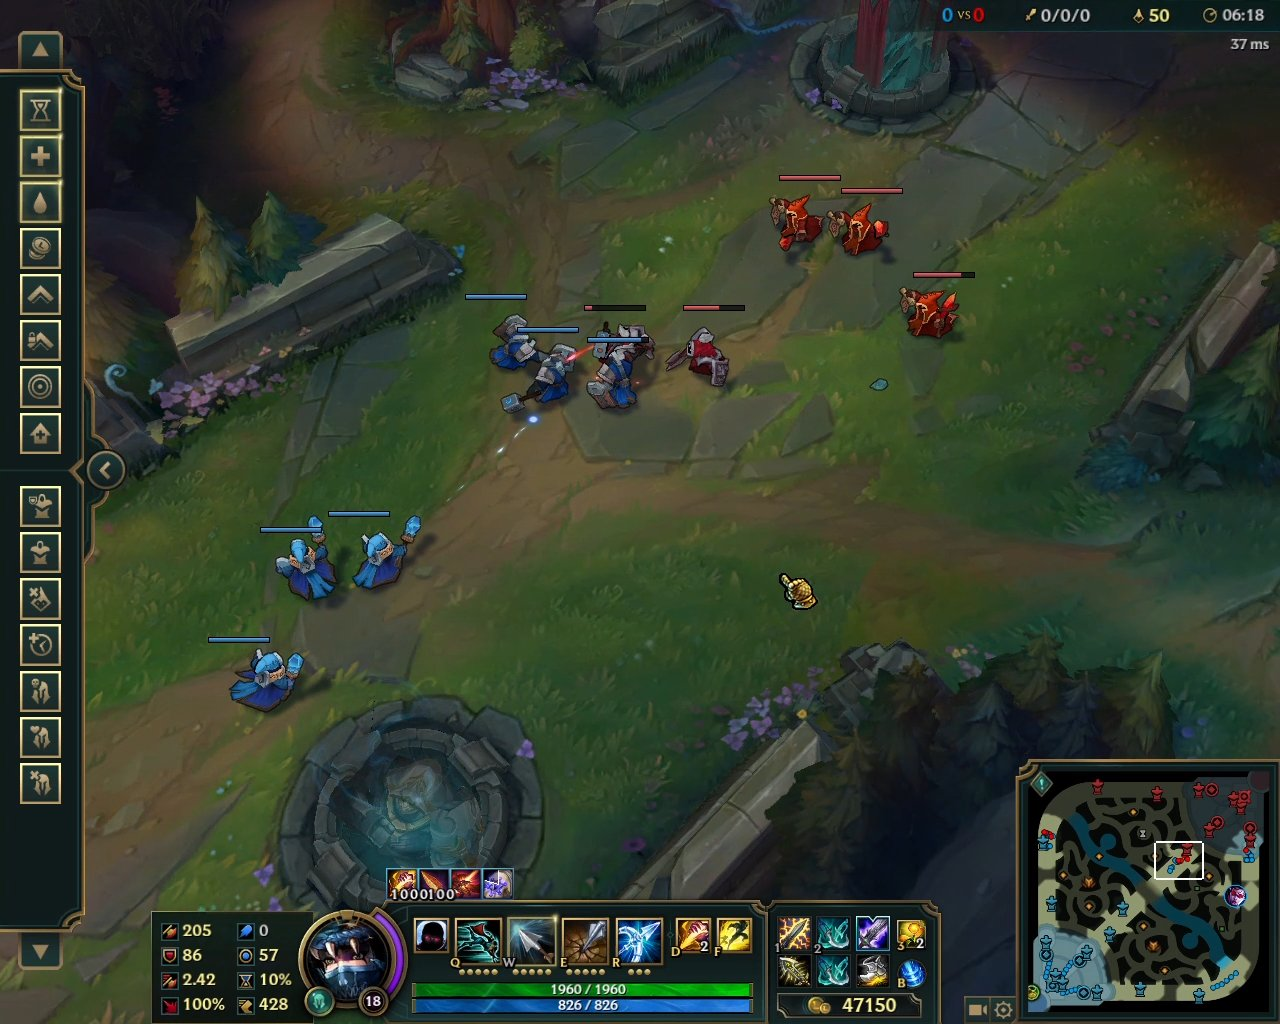EnemyMinion: (664, 303, 745, 387), (820, 184, 905, 261), (894, 269, 976, 345), (766, 174, 838, 259), (581, 305, 655, 359)
